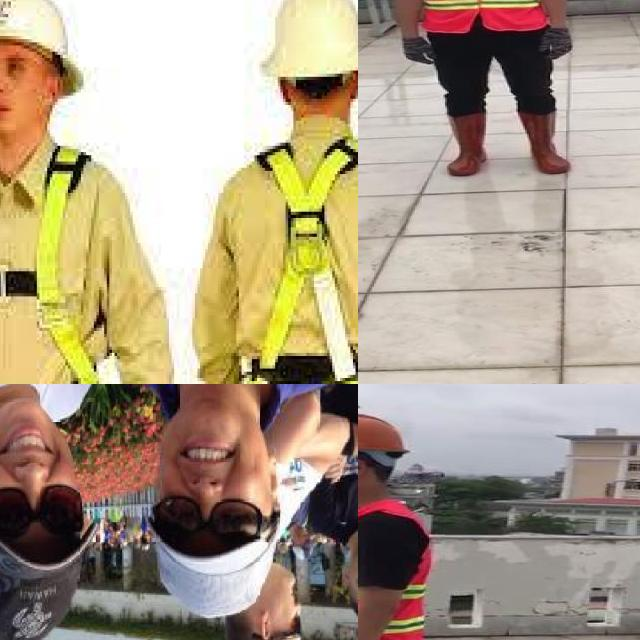Harness: (231, 138, 358, 384), (0, 143, 116, 384)
boots: (516, 112, 573, 176), (441, 113, 495, 175)
face_nomask: (156, 434, 260, 546), (0, 421, 80, 532), (268, 567, 310, 640), (346, 540, 358, 593)
glasses: (144, 490, 270, 550), (0, 482, 84, 542)
head_helmet: (358, 412, 414, 464)
head_nohelmet: (0, 538, 98, 640), (153, 547, 284, 618), (347, 598, 358, 627)
person: (105, 384, 358, 635), (375, 0, 592, 179), (0, 384, 108, 640), (358, 403, 437, 640)
vest: (358, 503, 430, 640), (404, 0, 545, 33)
